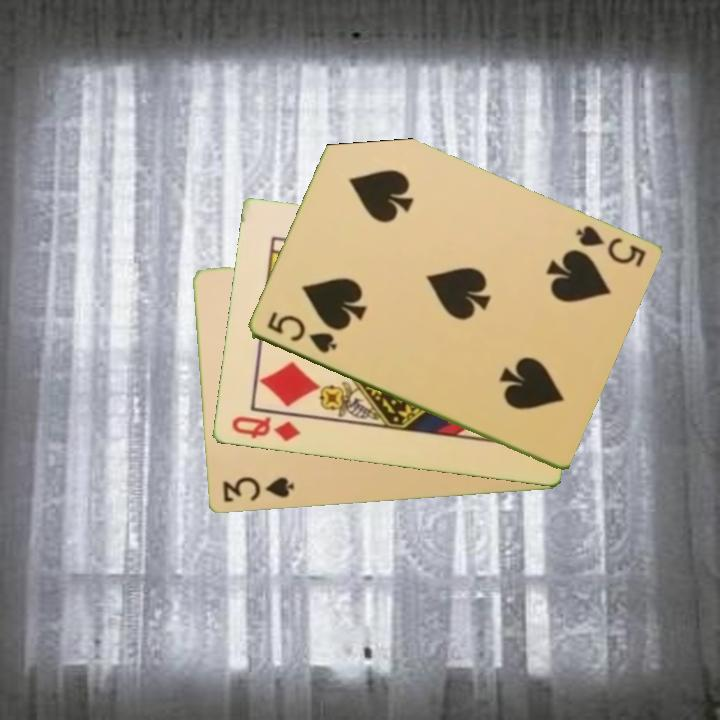3s: (219, 473, 297, 506)
5s: (263, 307, 340, 357), (571, 222, 648, 271)
Qd: (227, 413, 303, 445)
